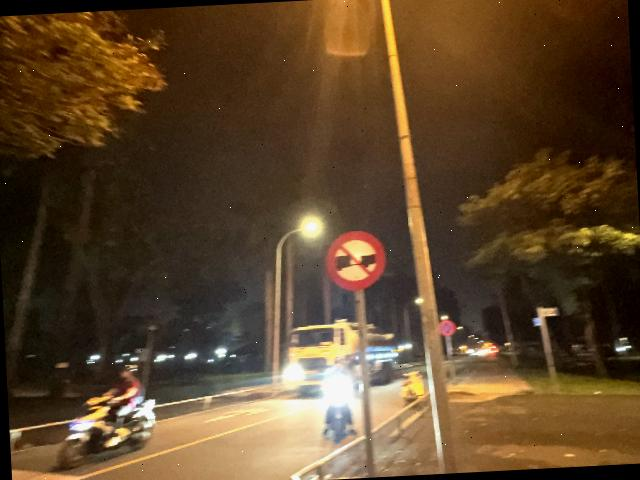cam-xe-somi-romooc: (324, 228, 388, 292)
